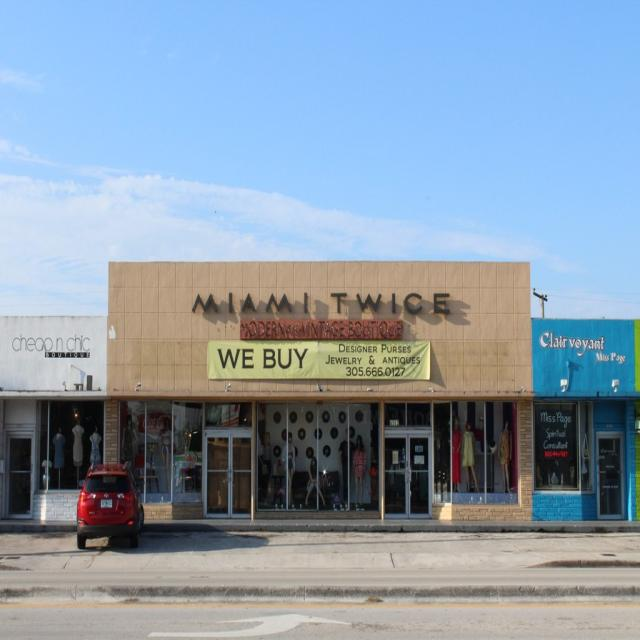car: (72, 458, 144, 548)
